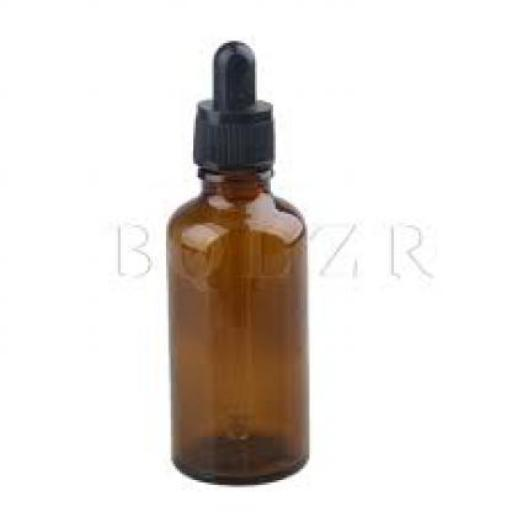glass: (166, 164, 308, 485)
plastic: (193, 39, 273, 170)
